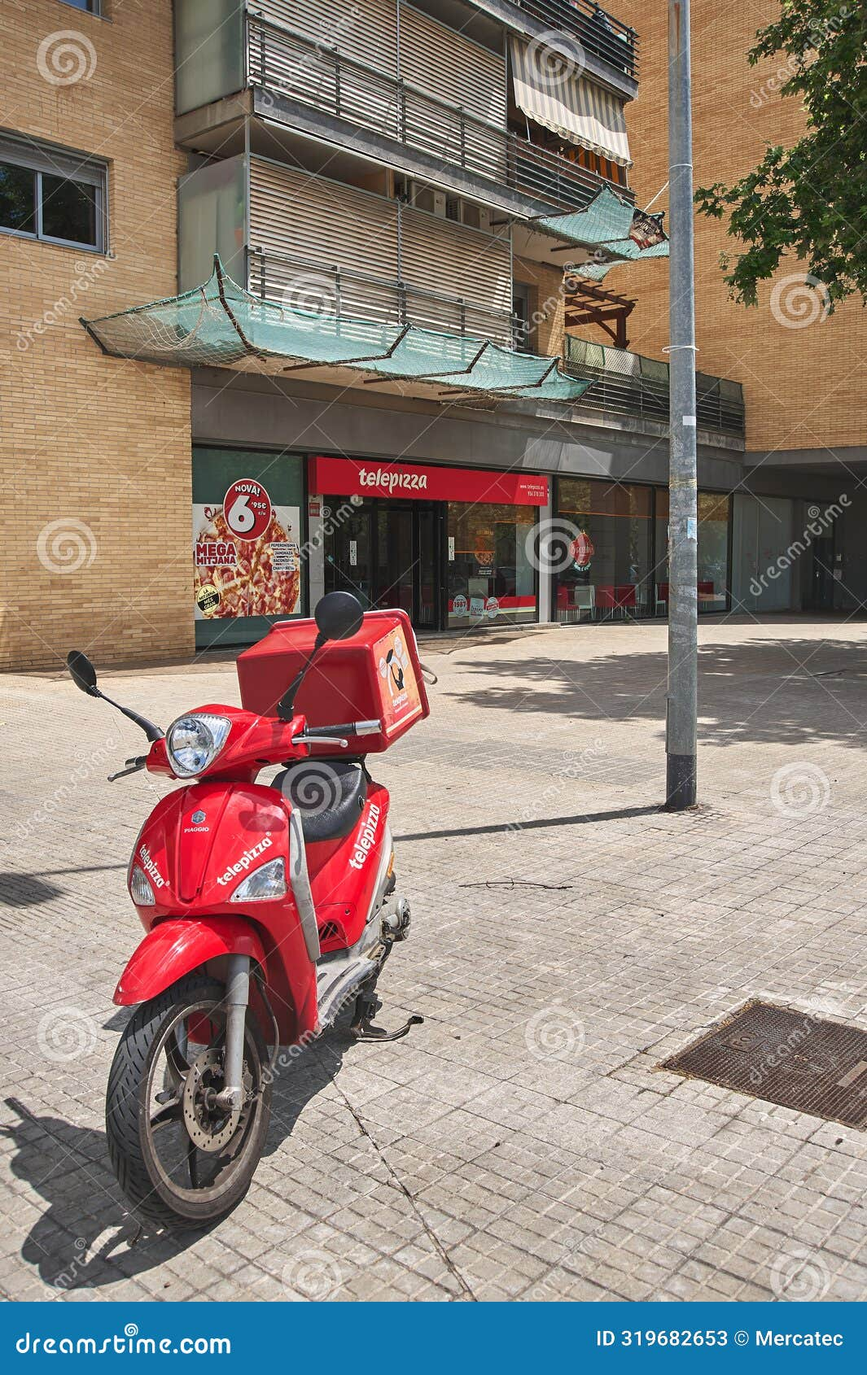Motorcycle: (33, 594, 437, 1229)
